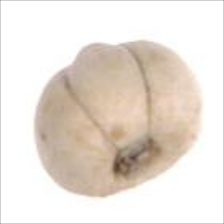L5: (59, 40, 151, 147), (110, 134, 164, 180), (63, 41, 128, 73)
L6: (29, 39, 205, 199)
